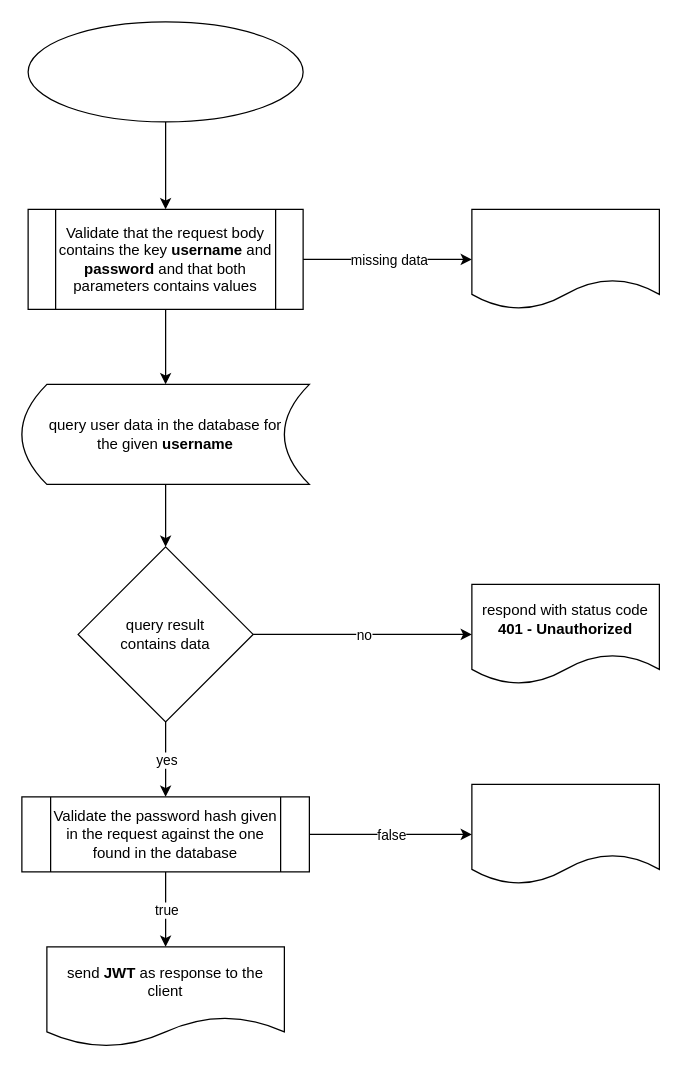
Image size: 681x1069. Some labels were removed from this diagram. The box of each missing label's shape, as (x1, y1, x2, y2) in pixels:
Request on login endpoint: (27, 21, 303, 122)
respond with status code 400 - Bad Request: (471, 208, 659, 309)
respond with status code 403 - Forbidden: (471, 783, 659, 884)
